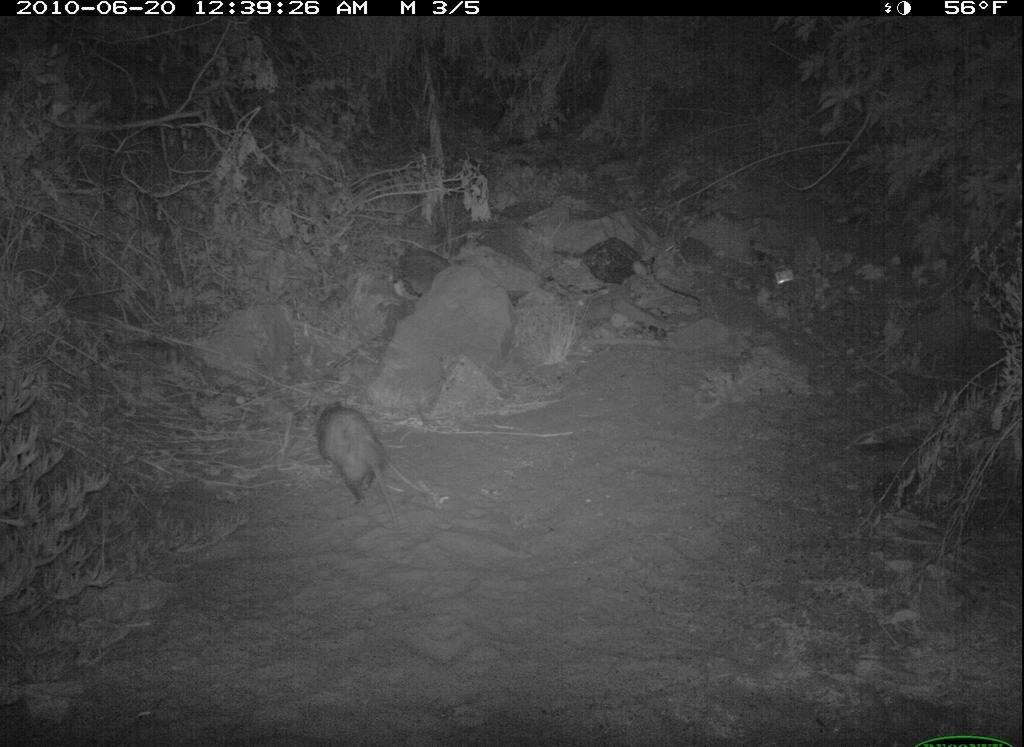opossum: (300, 386, 417, 546)
